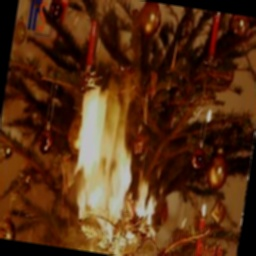fire: (52, 74, 182, 248)
